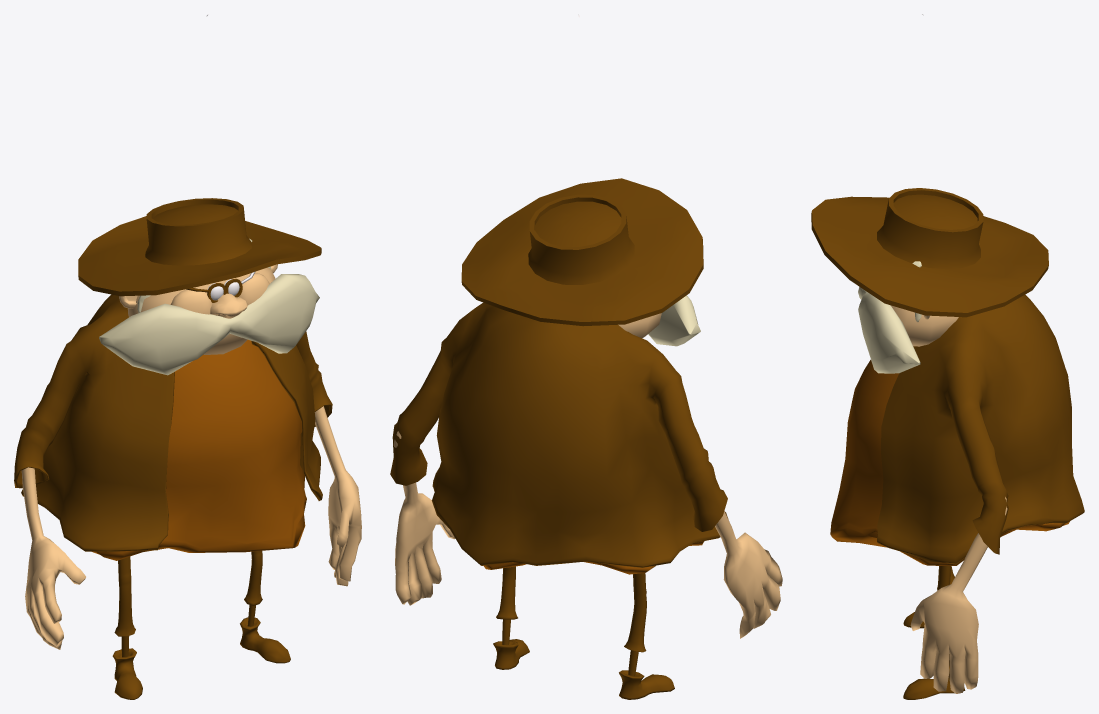
File: charactere.fbx
The picture shows the model from 3 angles, left to right: view 1: azimuth 30°, elevation 25°; view 2: azimuth 150°, elevation 25°; view 3: azimuth 270°, elevation 25°; orthographic projection.
Visible parts, largest first — view 1: character; view 2: character; view 3: character.
Part boxes in pixels (x1,y1,x2,y2): character: (14, 14, 361, 699); character: (390, 14, 782, 699); character: (811, 14, 1084, 699).
Bounding box in the file's own units: 22.68 × 40.94 × 15.6.
